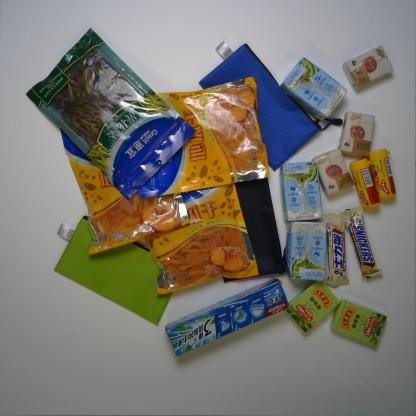Candy: (285, 258, 335, 342), (334, 300, 386, 346), (354, 153, 382, 211), (370, 147, 396, 201)
Chocolate: (346, 206, 384, 281), (323, 208, 348, 284)
Dried Food: (30, 25, 190, 191)
Dried Fruit: (56, 113, 190, 254), (122, 70, 267, 190), (153, 158, 257, 289)
Milk: (281, 41, 350, 121), (281, 154, 322, 222), (288, 221, 332, 283)
Personal Hygiene: (141, 271, 295, 357)
Stationery: (204, 27, 320, 174), (49, 214, 176, 322), (205, 165, 288, 285)
Tissue: (337, 36, 395, 92), (315, 146, 352, 198), (339, 108, 374, 158)
